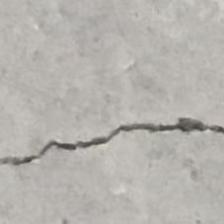Crack: (0, 110, 224, 172)
